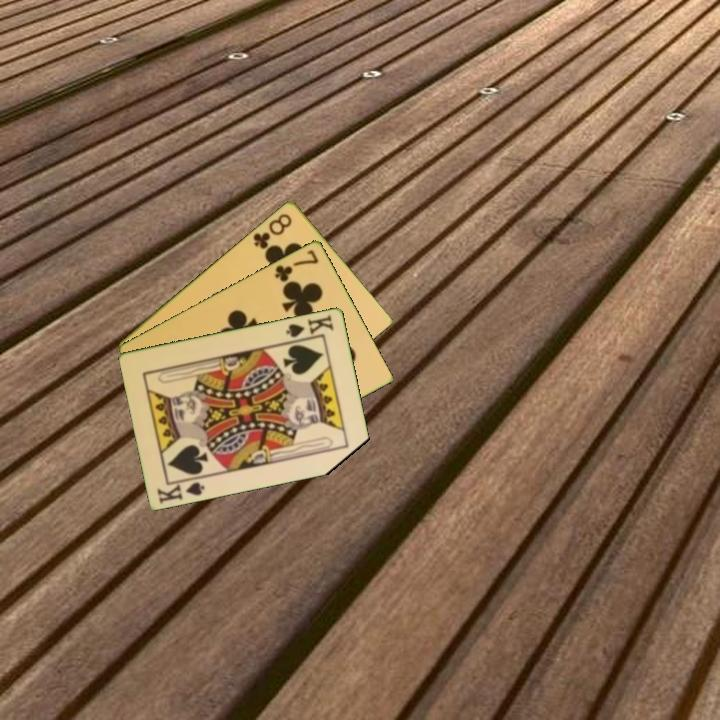7c: (271, 246, 322, 285)
8c: (250, 210, 295, 252)
Ks: (282, 311, 337, 344), (154, 473, 208, 506)
